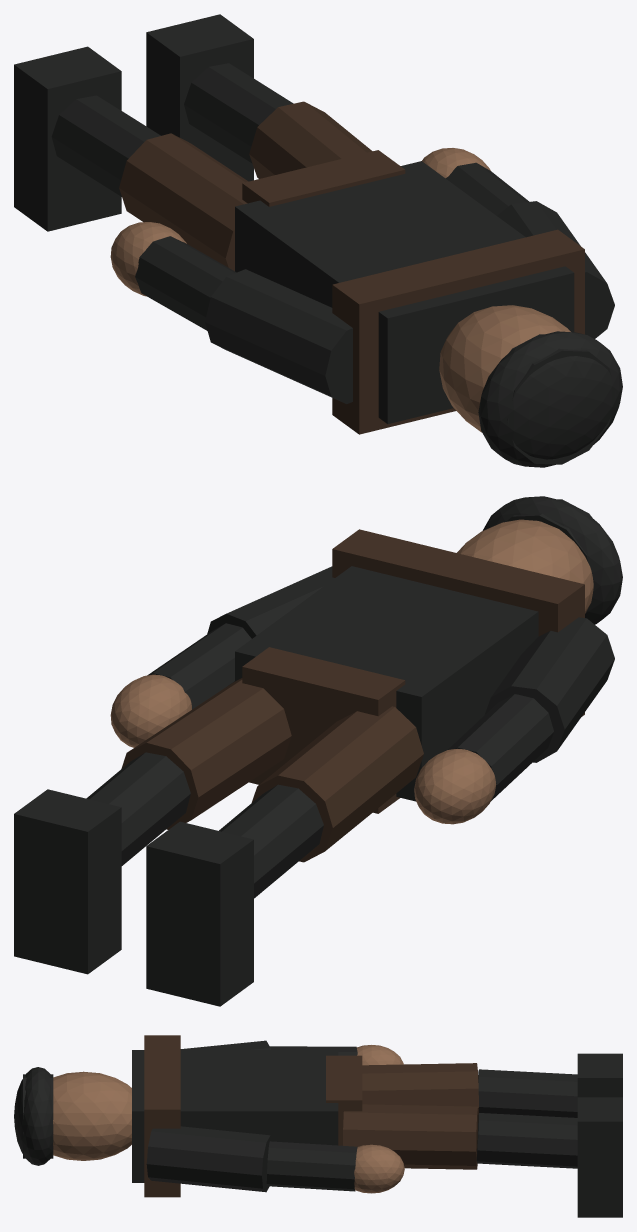
Rendered from SM_CharacterRaider_Preview.obj.
The picture shows the model from 3 angles, top to bottom: view 1: azimuth 30°, elevation 25°; view 2: azimuth 150°, elevation 25°; view 3: azimuth 270°, elevation 25°; orthographic projection. The views are drawn at different scales.
Size of the model in its own units: 0.95 by 0.405 by 2.01.
